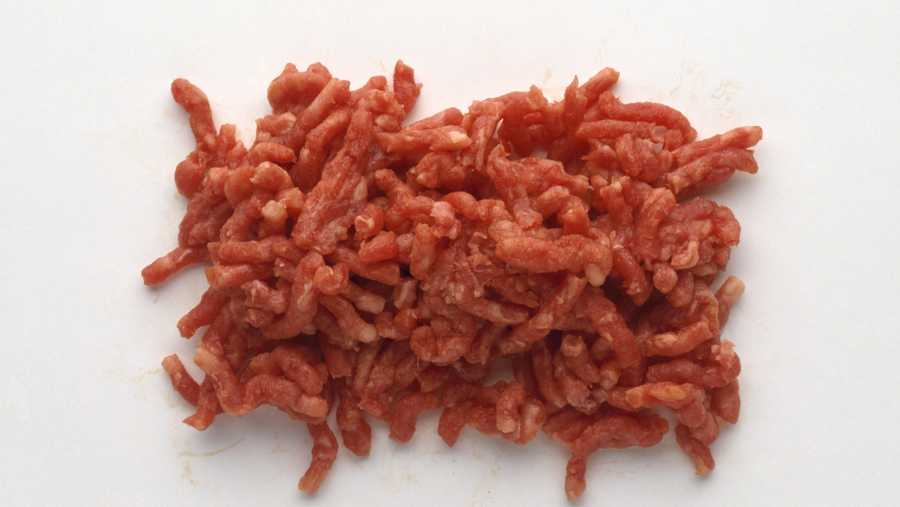ground_beef: (168, 60, 716, 458)
